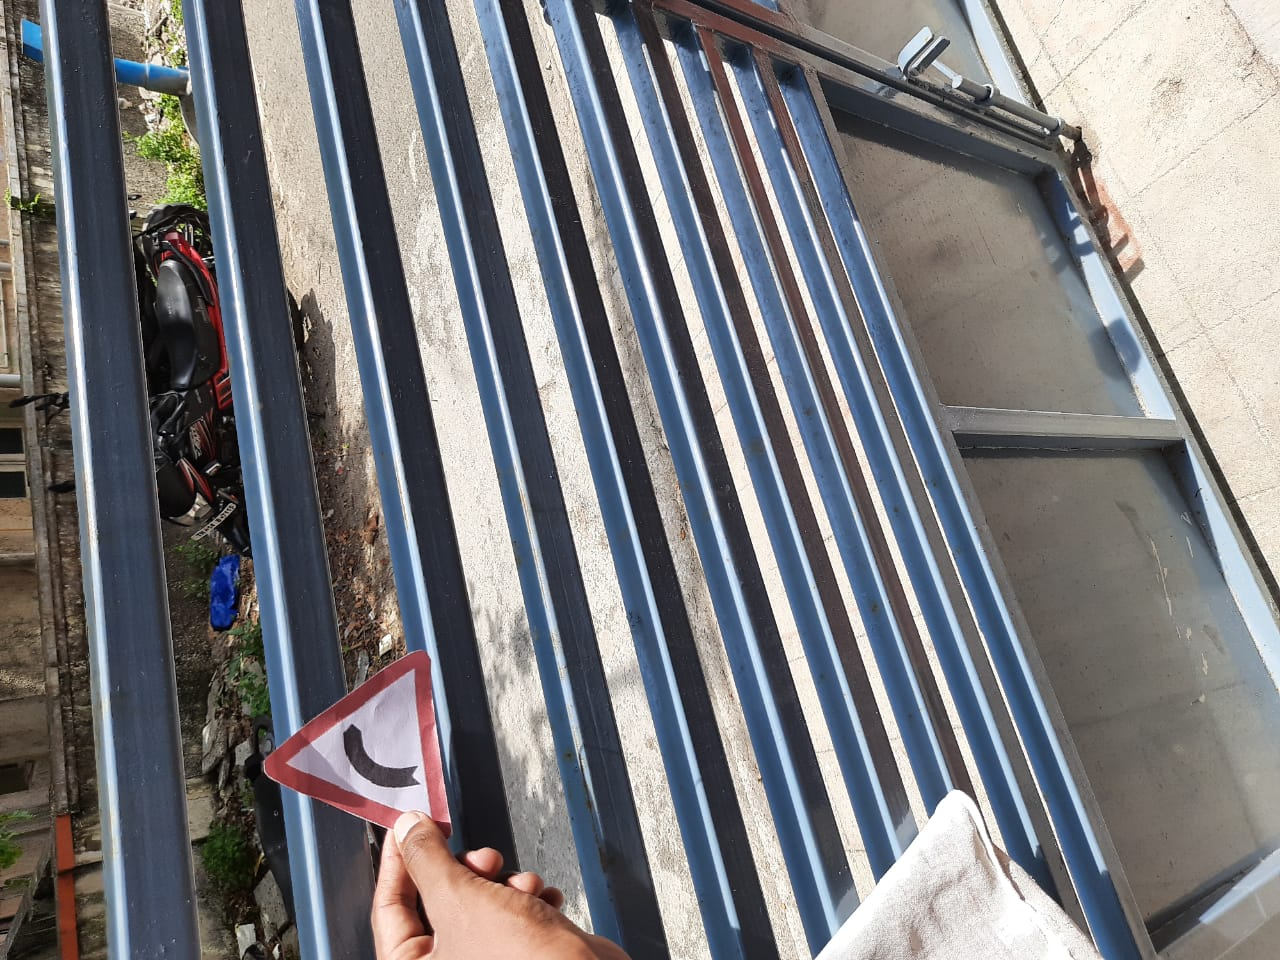RIGHT CURVE: (243, 650, 474, 838)
